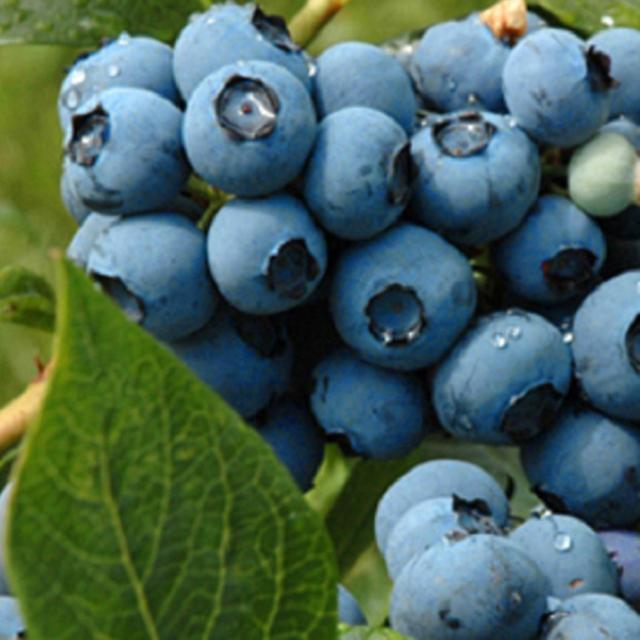BlueBerry - v1: (324, 215, 491, 376), (426, 295, 584, 464), (403, 98, 550, 260), (174, 51, 329, 203), (75, 202, 231, 347), (51, 82, 196, 227), (374, 525, 553, 640), (194, 183, 343, 318), (172, 0, 324, 124), (513, 392, 640, 540), (165, 292, 301, 430), (495, 19, 625, 154), (486, 183, 615, 312), (299, 342, 435, 464), (366, 450, 518, 558), (305, 98, 418, 242), (51, 22, 185, 138), (301, 33, 428, 150), (562, 261, 640, 433), (408, 8, 520, 120), (507, 505, 628, 607), (385, 489, 508, 580), (241, 386, 336, 492), (577, 21, 640, 132), (542, 582, 640, 640)
